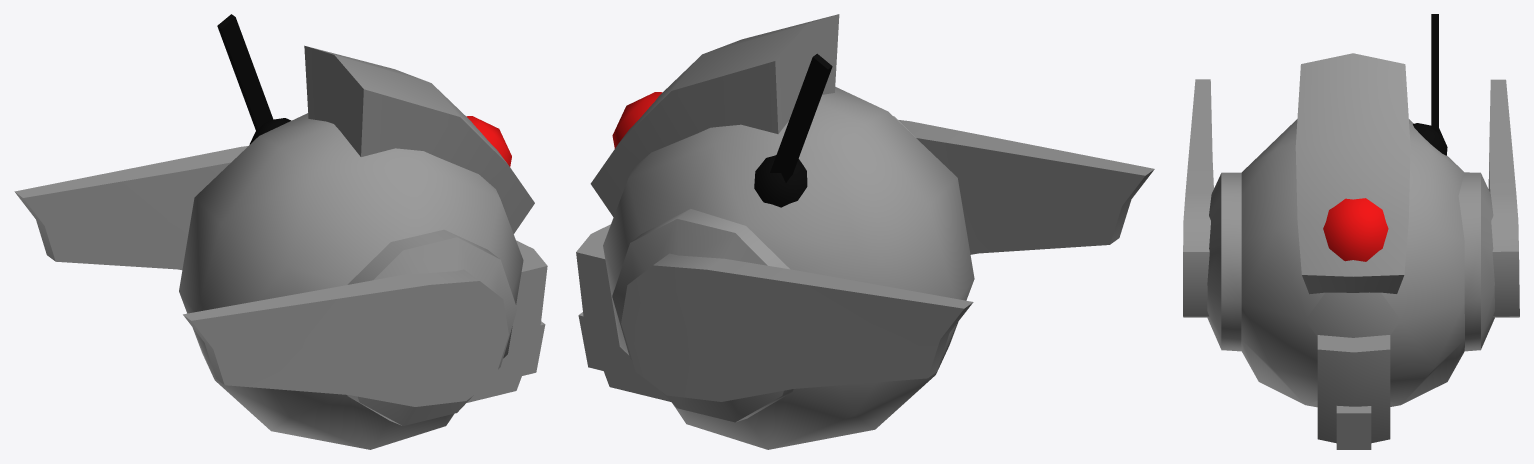
File: SpeedDronAtl.FBX
The picture shows the model from 3 angles, left to right: view 1: azimuth 30°, elevation 25°; view 2: azimuth 150°, elevation 25°; view 3: azimuth 270°, elevation 25°; orthographic projection. The views are drawn at different scales.
Visible parts, largest first — view 1: Speed Dron Atl; view 2: Speed Dron Atl; view 3: Speed Dron Atl.
Part boxes in pixels (left/top/right/bottom): Speed Dron Atl: left=14, top=14, right=547, bottom=449; Speed Dron Atl: left=576, top=14, right=1154, bottom=449; Speed Dron Atl: left=1183, top=14, right=1519, bottom=449.
Bounding box in the file's own units: 101 × 89.66 × 77.36.
